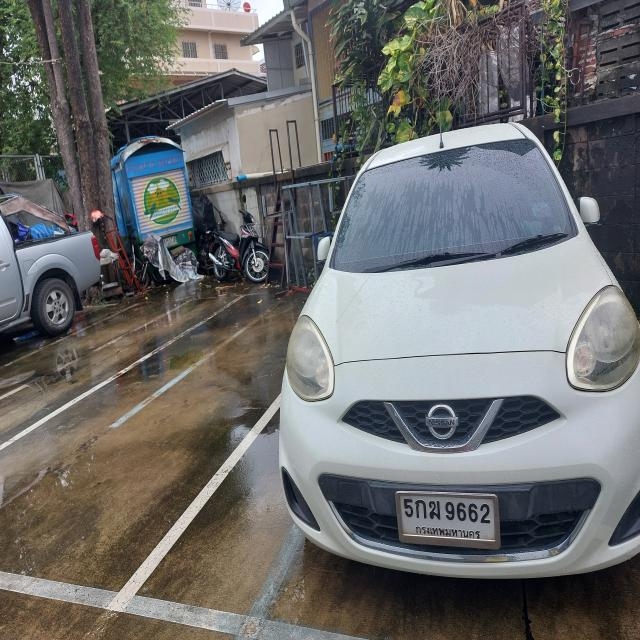license_plate: (394, 491, 502, 549)
